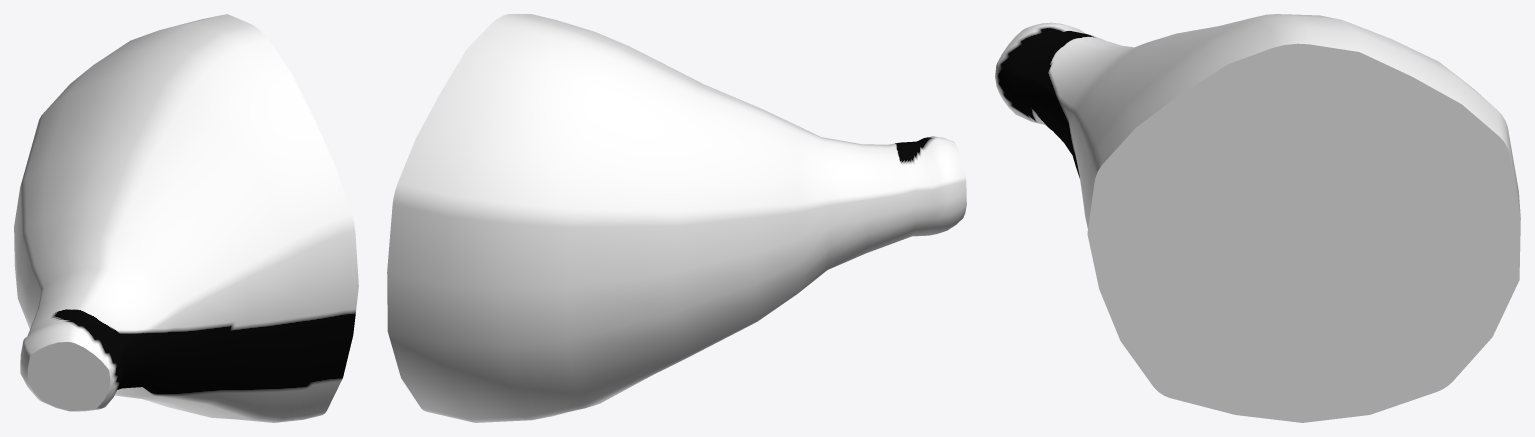
The model's file is top_banana2.fbx.
The picture shows the model from 3 angles, left to right: view 1: azimuth 30°, elevation 25°; view 2: azimuth 150°, elevation 25°; view 3: azimuth 270°, elevation 25°; orthographic projection. The views are drawn at different scales.
Visible parts, largest first — view 1: top; view 2: top; view 3: top.
Part boxes in pixels (<box>): top: <box>14,14,358,422</box>; top: <box>387,14,966,422</box>; top: <box>995,14,1520,422</box>.
Bounding box in the file's own units: 83.33 × 84.5 × 106.
